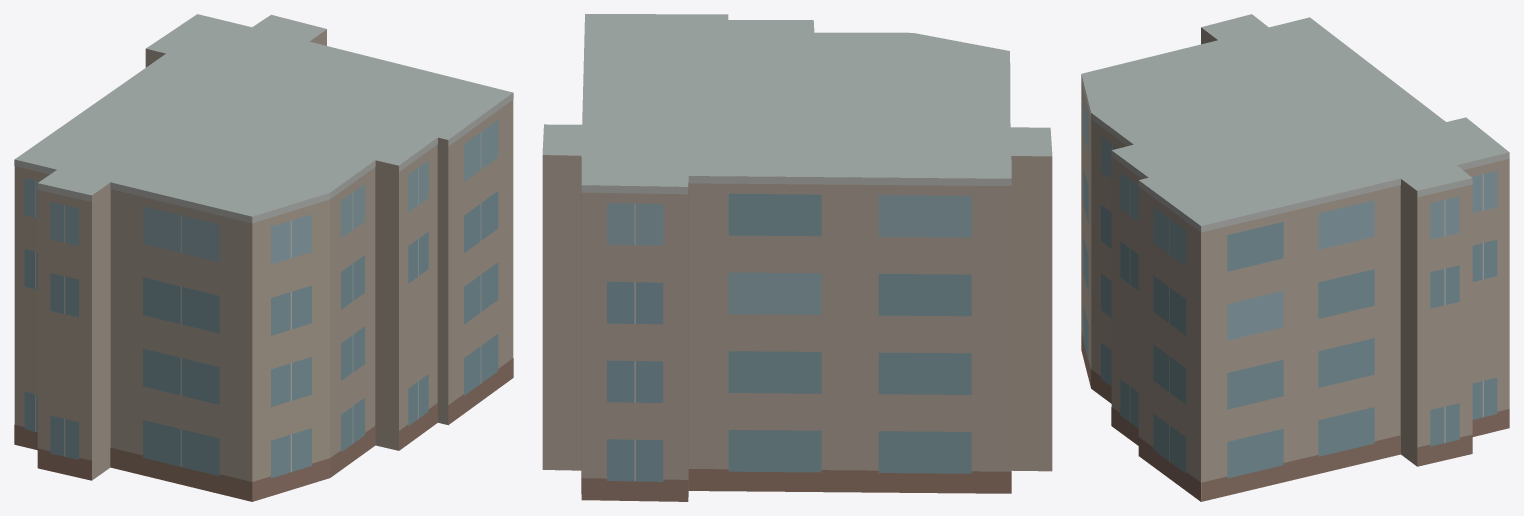
The model's file is survey-upis-32775777.glb.
The picture shows the model from 3 angles, left to right: view 1: azimuth 30°, elevation 25°; view 2: azimuth 150°, elevation 25°; view 3: azimuth 270°, elevation 25°; orthographic projection. The views are drawn at different scales.
Parts seen in each view (by area): view 1: survey-upis-32775777.tmp; view 2: survey-upis-32775777.tmp; view 3: survey-upis-32775777.tmp.
Boxes of the visible parts, bbox=[...] form: survey-upis-32775777.tmp: bbox=[14, 14, 513, 501]; survey-upis-32775777.tmp: bbox=[542, 14, 1052, 501]; survey-upis-32775777.tmp: bbox=[1081, 14, 1509, 501].
Bounding box in the file's own units: 17.25 × 10.45 × 14.72.
